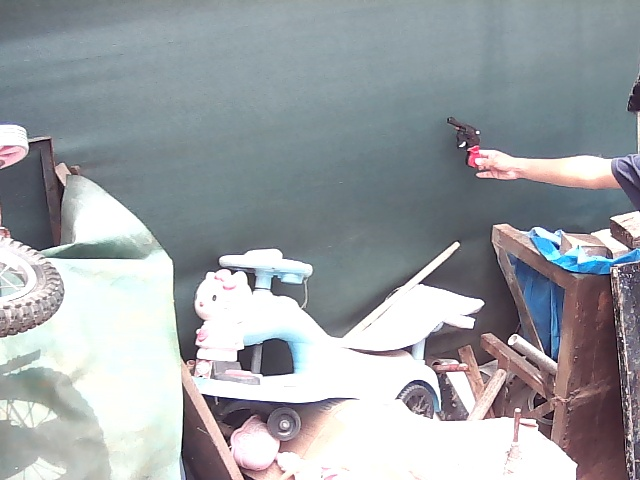pistola: (444, 112, 487, 168)
